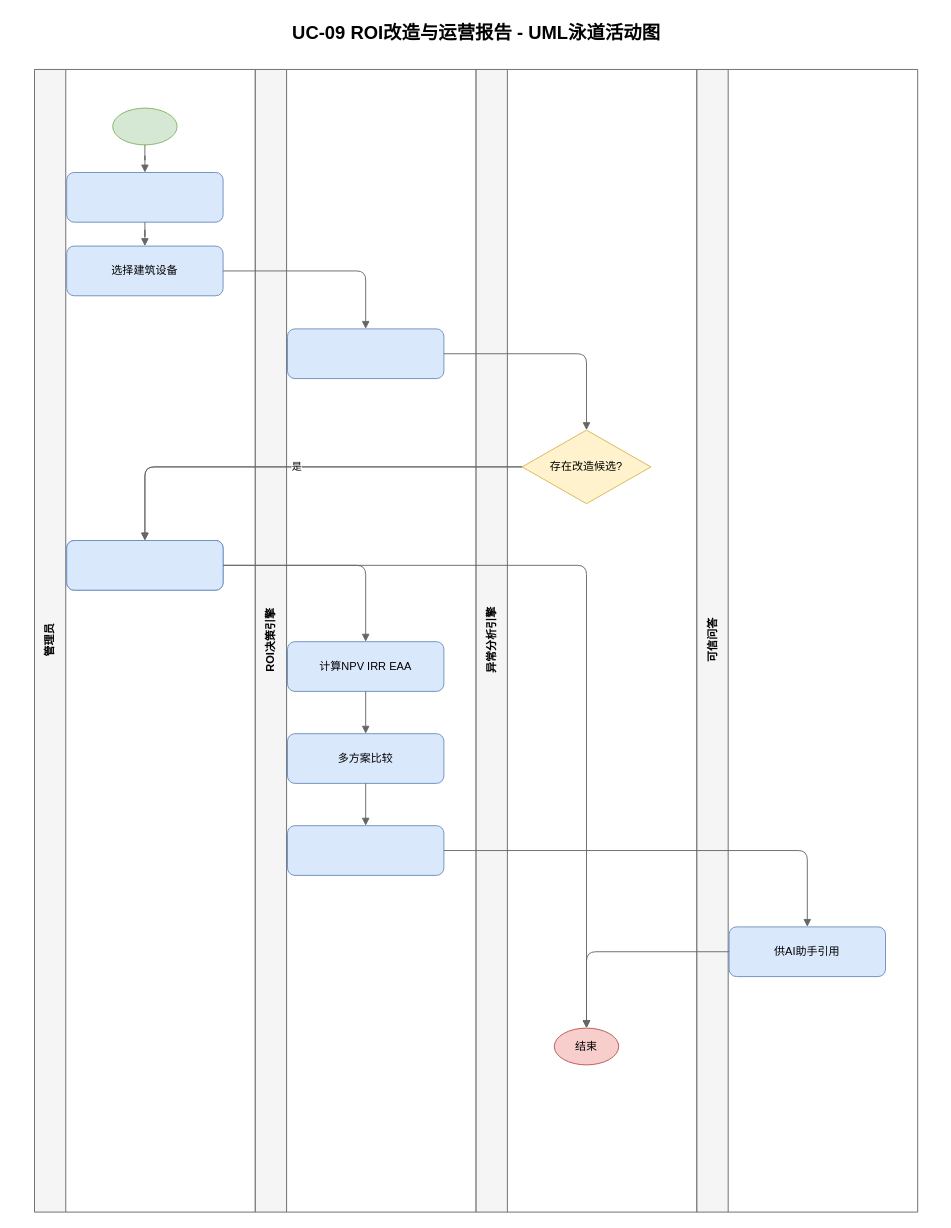
This 951x1228 diagram has some shape labels left out. Each missing label, with the centre of its shape:
"开始" belongs at point (144, 126).
"执行能效审计" belongs at point (365, 353).
"汇总风险工单预算ROI" belongs at point (365, 850).
"进入ROI或报告" belongs at point (144, 197).
"选择改造方案" belongs at point (144, 565).
